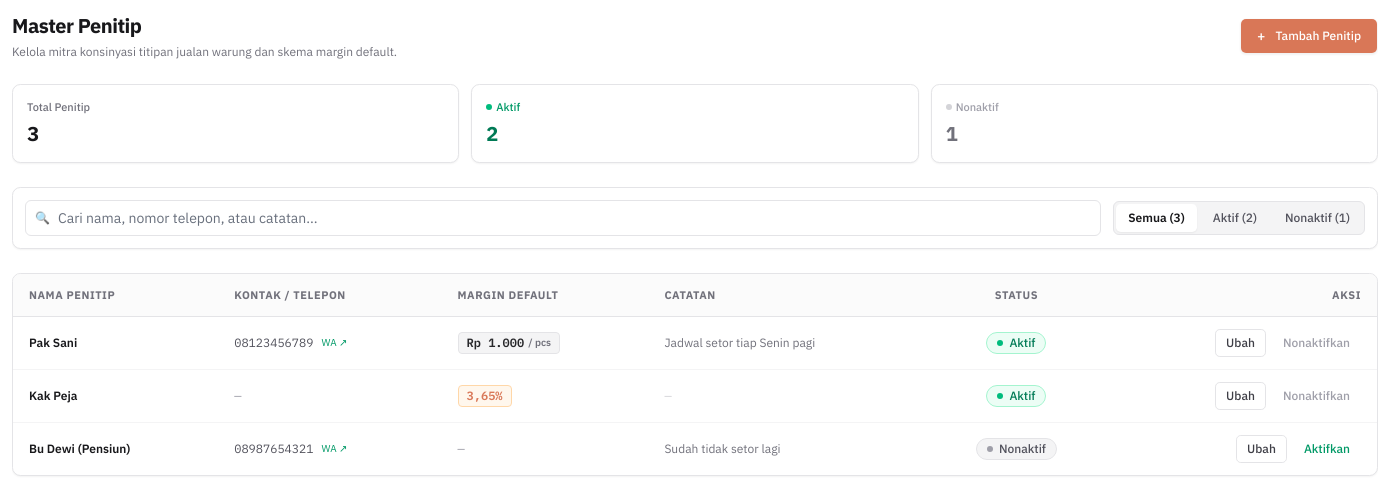
Test: PenitipPage Full Component › filters by status tabs
Note: Click "Aktif" filter
Click the button "Aktif (2)": [1235, 218] box [1201,204,1269,232]
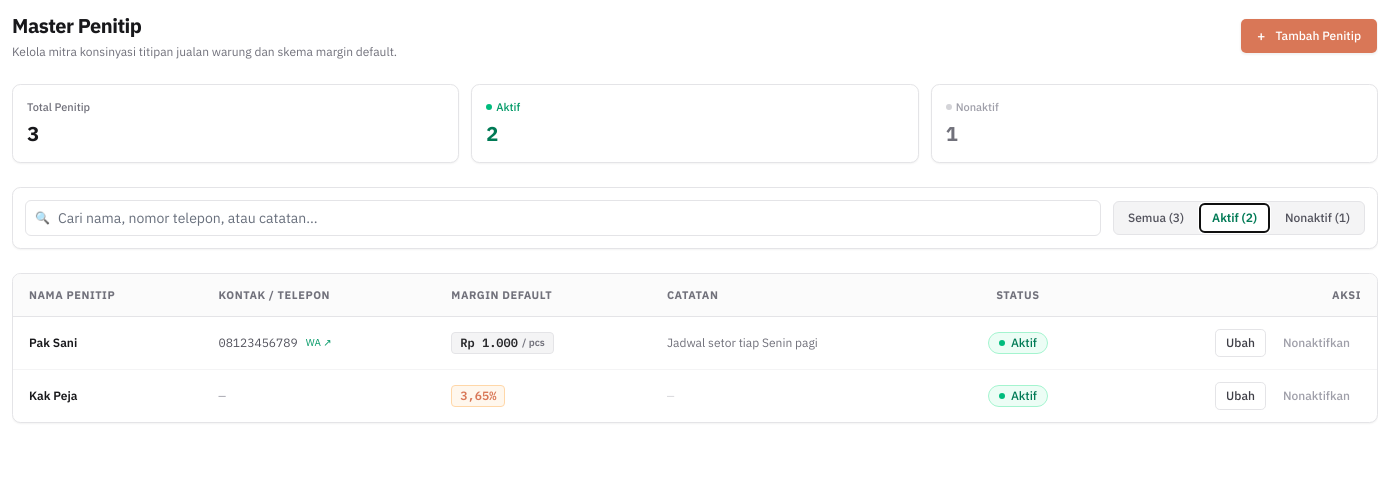
Check: the text "Pak Sani" is shown, box [13,317,202,370]
Check: the text "Bu Dewi (Pensiun)" is not shown
Note: Click "Nonaktif" filter
Click the button "Nonaktif (1)": [1317, 218] box [1273,204,1362,232]
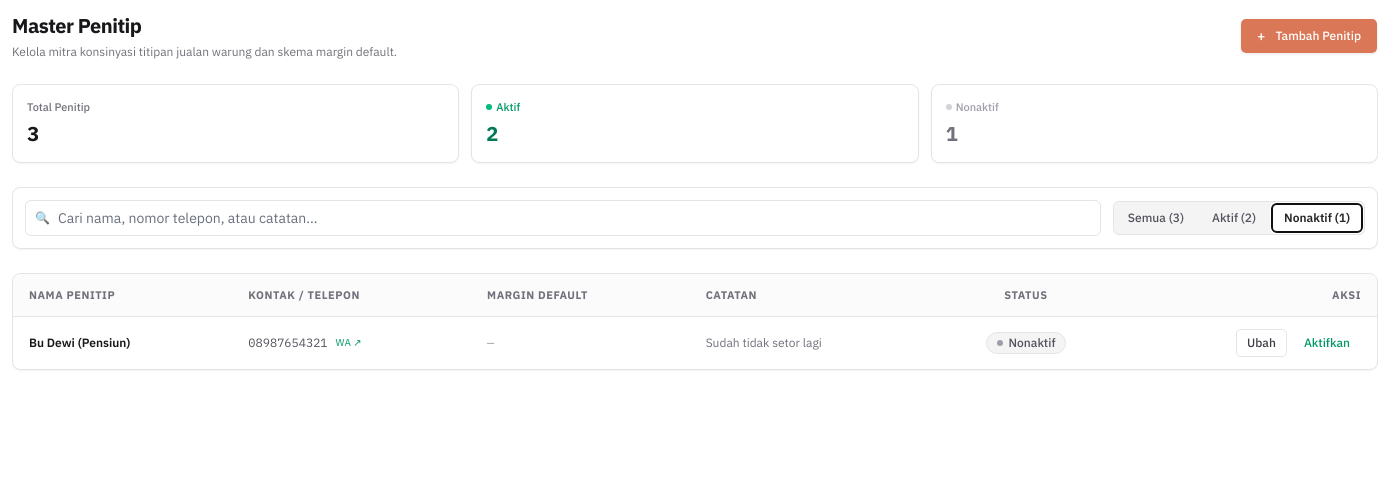
Check: the text "Pak Sani" is not shown
Check: the text "Bu Dewi (Pensiun)" is shown, box [13,317,232,369]
